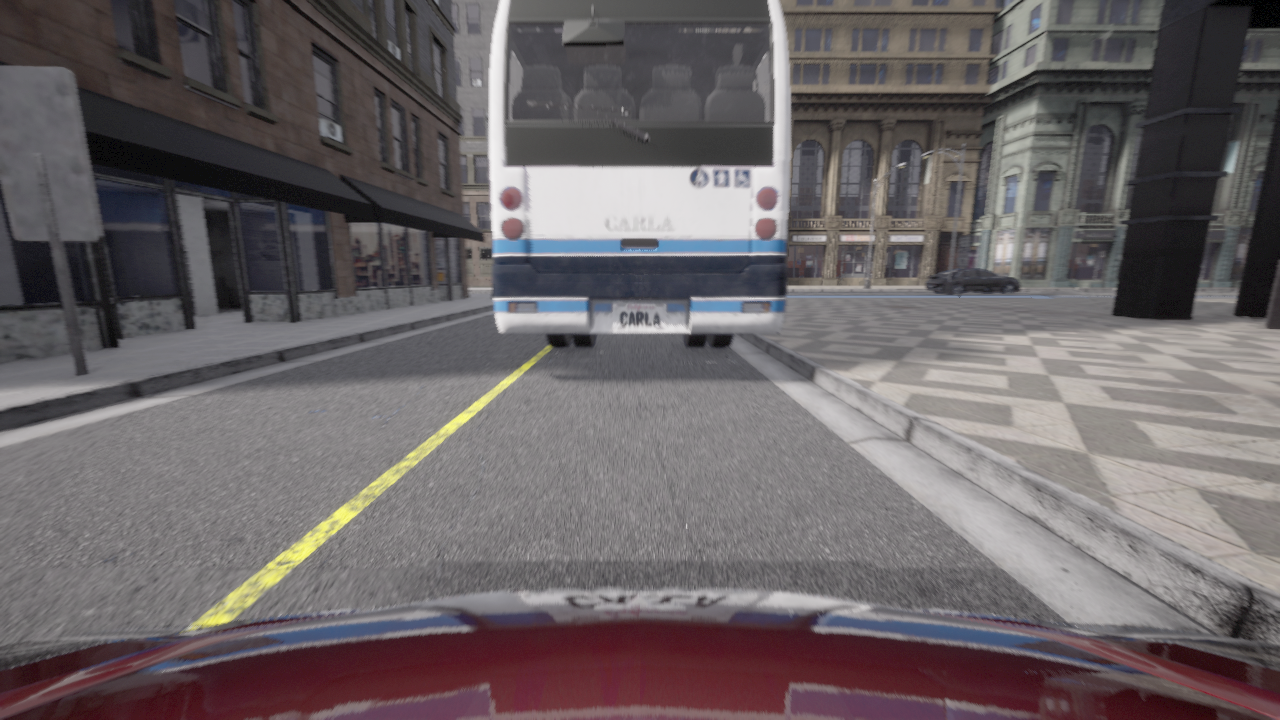cyclist: (0, 588, 1279, 719), (489, 0, 789, 346), (926, 268, 1020, 292)
